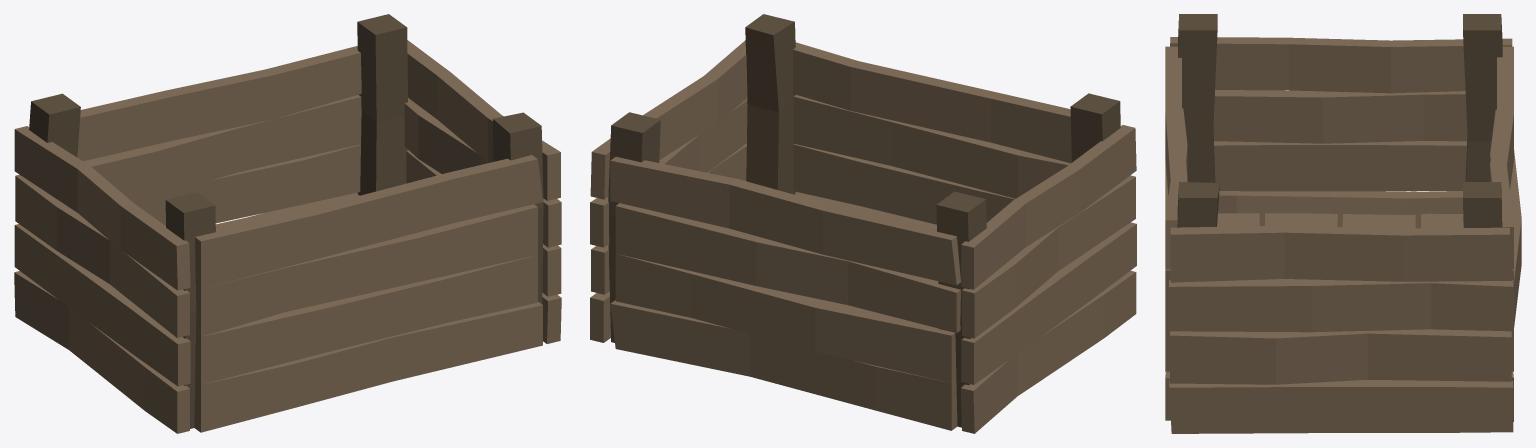
The model's file is wooden_basket.FBX.
3 renders of one model, left to right at view 1: azimuth 30°, elevation 25°; view 2: azimuth 150°, elevation 25°; view 3: azimuth 270°, elevation 25°, orthographic. The views are drawn at different scales.
Parts seen in each view (by area): view 1: wooden_bastet; view 2: wooden_bastet; view 3: wooden_bastet.
Boxes of the visible parts, <box> form: wooden_bastet: <box>14,14,561,433</box>; wooden_bastet: <box>590,14,1136,433</box>; wooden_bastet: <box>1165,14,1521,433</box>.
Bounding box in the file's own units: 0.9652 × 0.5161 × 0.7274.
